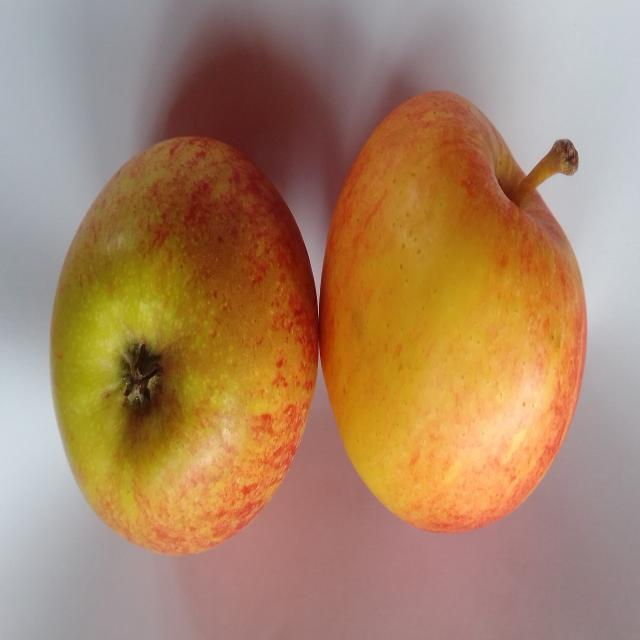Fresh Apple: (318, 87, 585, 535), (42, 130, 323, 555)
